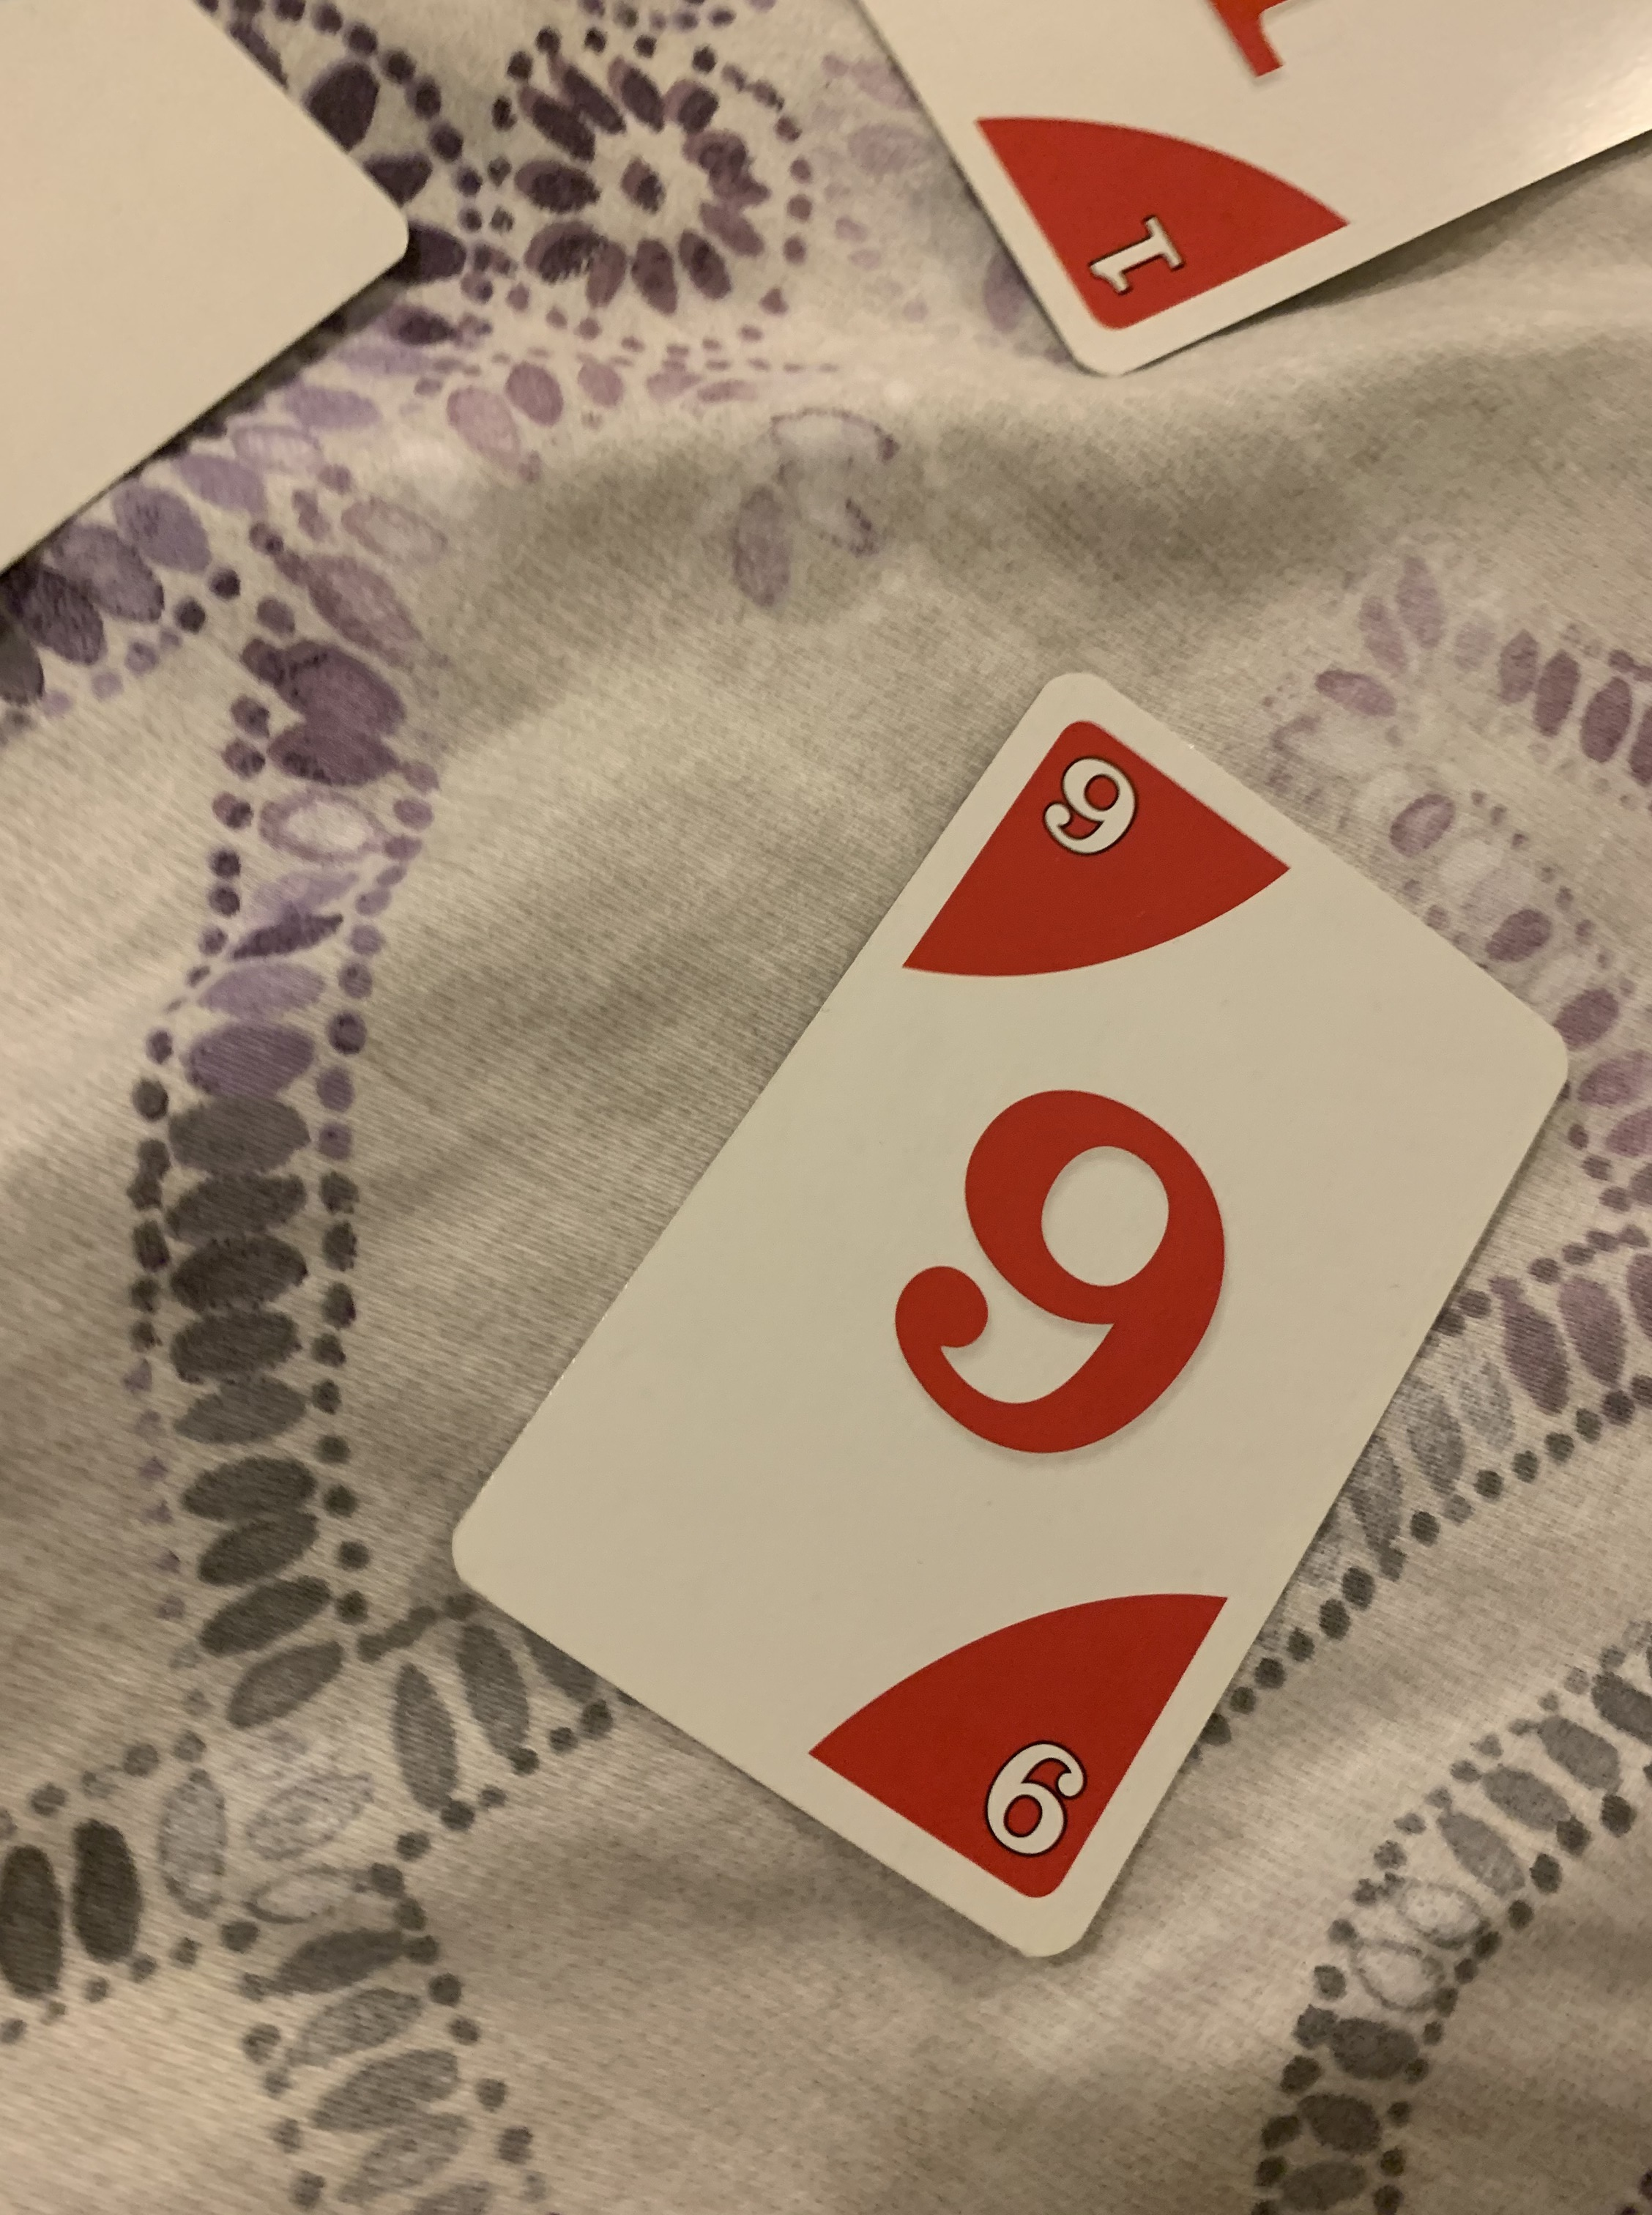nine: (444, 646, 1577, 1953)
